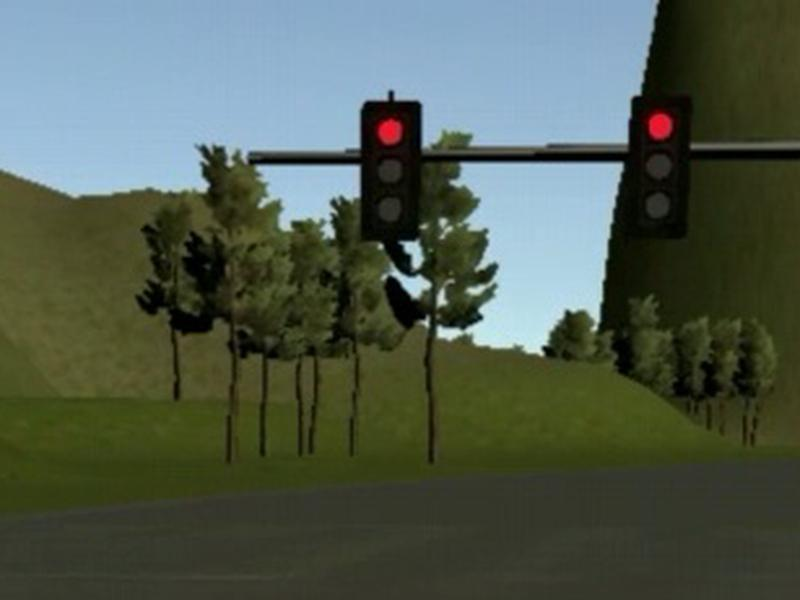Red: (631, 95, 687, 238), (366, 103, 416, 240)
